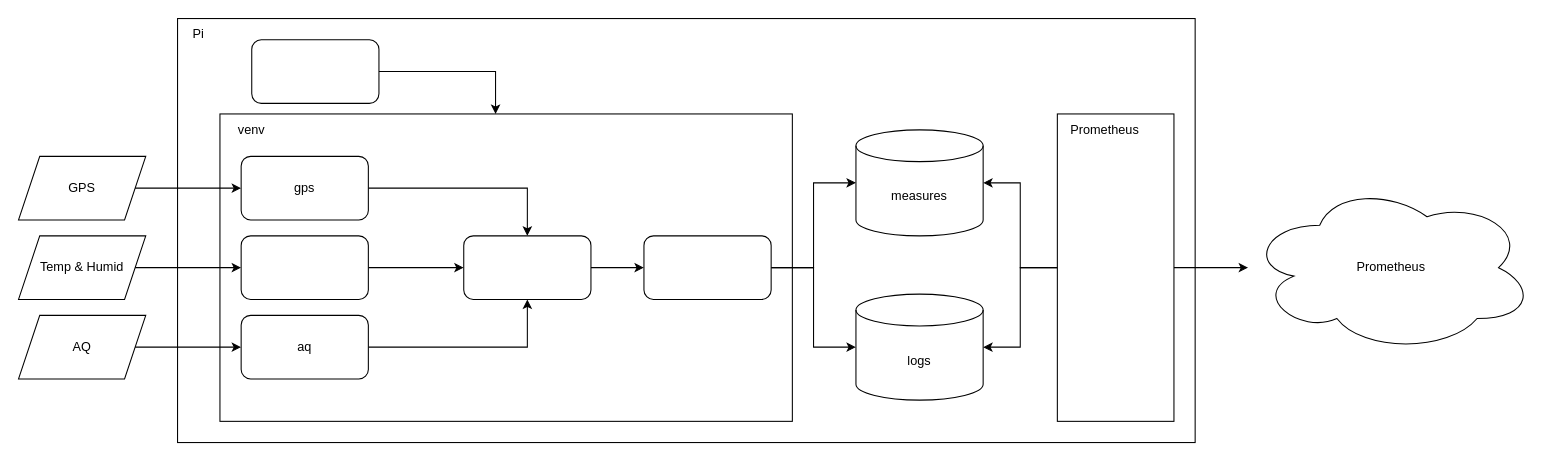
Image size: 1553x461. Some labels were removed from this diagram. Here are the shapes that lost their labels. From the top down, the centre of each, then its label:
the point at 315,71: Systemctl
the point at 304,267: temp_humid
the point at 527,267: app
the point at 707,267: file_io
